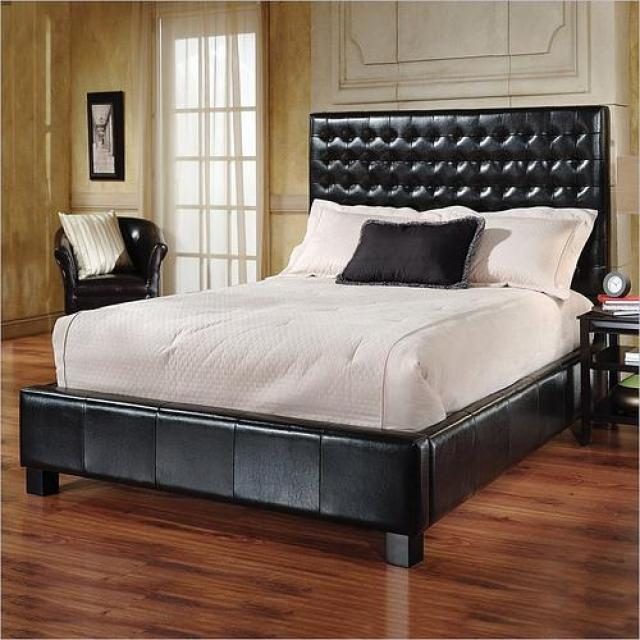bed: (18, 104, 614, 567)
